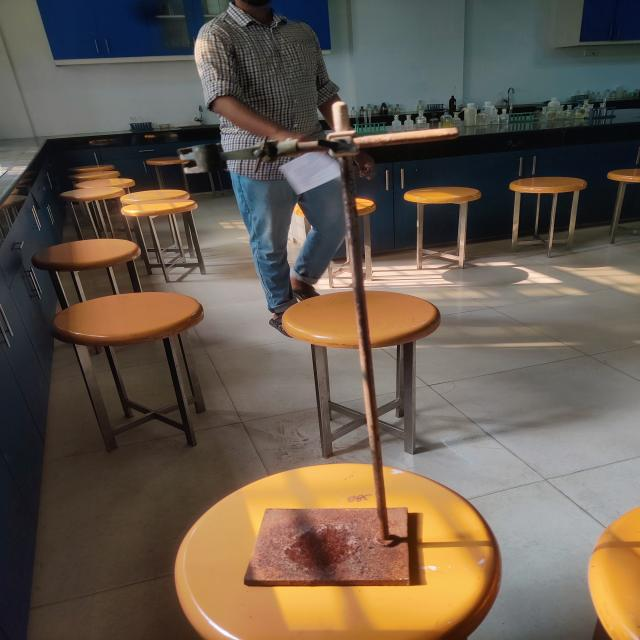Burette_Stands: (194, 87, 497, 618)
